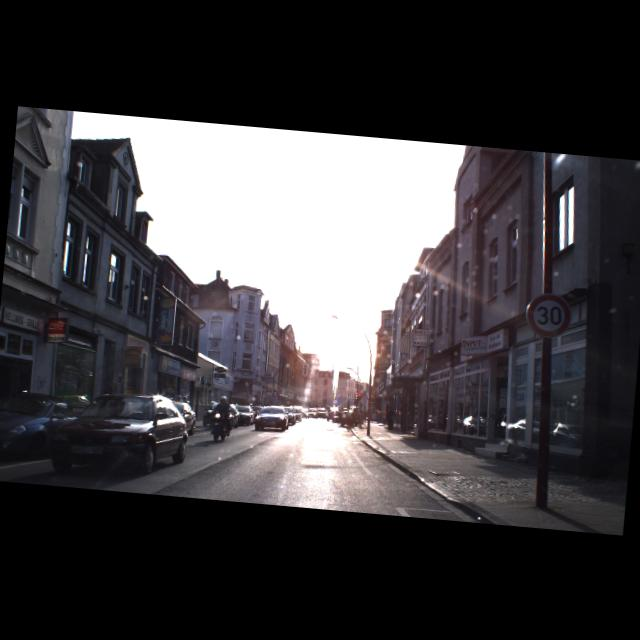prohibitory: (524, 290, 574, 338)
